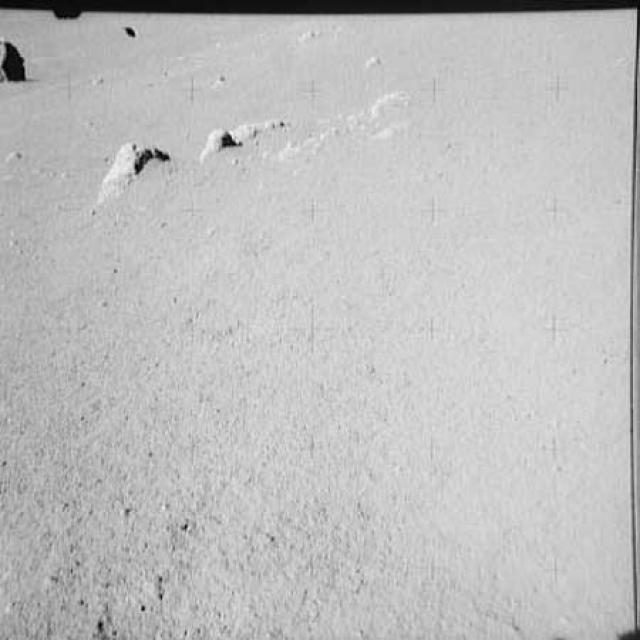rock: (197, 110, 300, 155), (100, 136, 173, 194), (0, 39, 38, 89)
